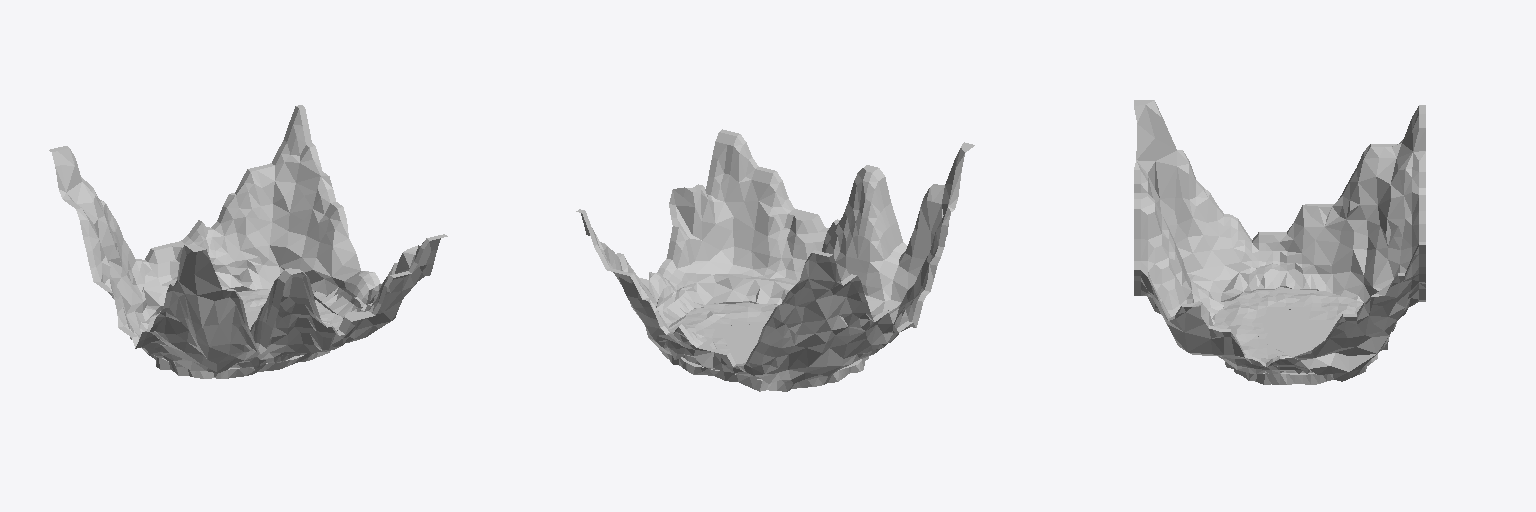
The model's file is environment.obj.
The picture shows the model from 3 angles: view 1: azimuth 30°, elevation 25°; view 2: azimuth 150°, elevation 25°; view 3: azimuth 270°, elevation 25°; orthographic projection.
Visible parts, largest first — view 1: Plane_Material.002, Plane.001_Material.001; view 2: Plane_Material.002, Plane.001_Material.001; view 3: Plane_Material.002, Plane.001_Material.001.
Boxes of the visible parts, x1=… form: Plane_Material.002: x1=49, y1=105, x2=447, y2=378; Plane.001_Material.001: x1=148, y1=289, x2=342, y2=369; Plane_Material.002: x1=576, y1=129, x2=974, y2=391; Plane.001_Material.001: x1=669, y1=302, x2=861, y2=380; Plane_Material.002: x1=1134, y1=100, x2=1425, y2=384; Plane.001_Material.001: x1=1214, y1=287, x2=1362, y2=374.
Bounding box in the file's own units: 13.44 × 8.59 × 12.65.